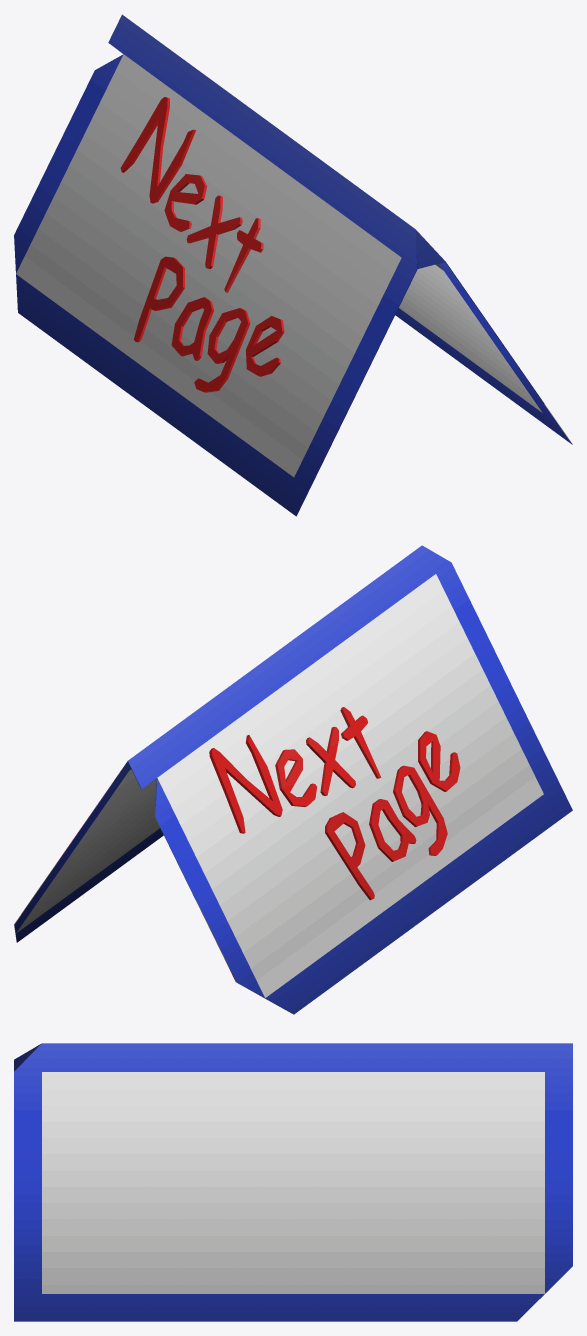
File: OBJ_NextPageSign.fbx
3 views of the same model, one above another, from view 1: azimuth 30°, elevation 25°; view 2: azimuth 150°, elevation 25°; view 3: azimuth 270°, elevation 25° (orthographic). The views are drawn at different scales.
Parts seen in each view (by area): view 1: NextPage_Sign; view 2: NextPage_Sign; view 3: NextPage_Sign.
Part boxes in pixels (x1=…): NextPage_Sign: x1=14, y1=14, x2=572, y2=516; NextPage_Sign: x1=14, y1=545, x2=572, y2=1014; NextPage_Sign: x1=14, y1=1043, x2=572, y2=1321.
Size of the model in its own units: 33.31 by 27.95 by 64.38.
